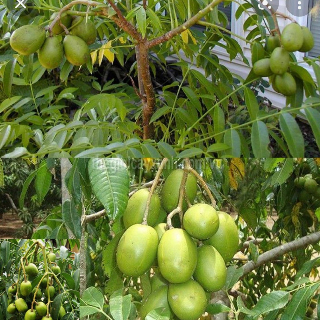coc: (116, 223, 157, 277), (159, 228, 197, 284), (183, 203, 219, 240), (11, 25, 45, 56), (63, 33, 89, 65), (282, 23, 304, 52)
